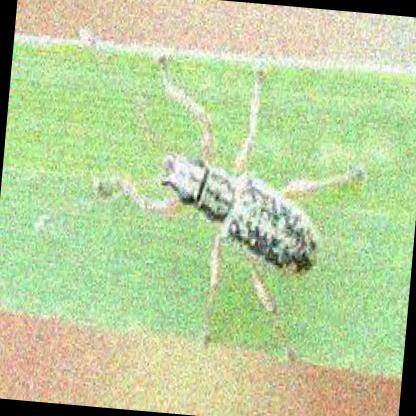ash weevil: (104, 63, 360, 337)
